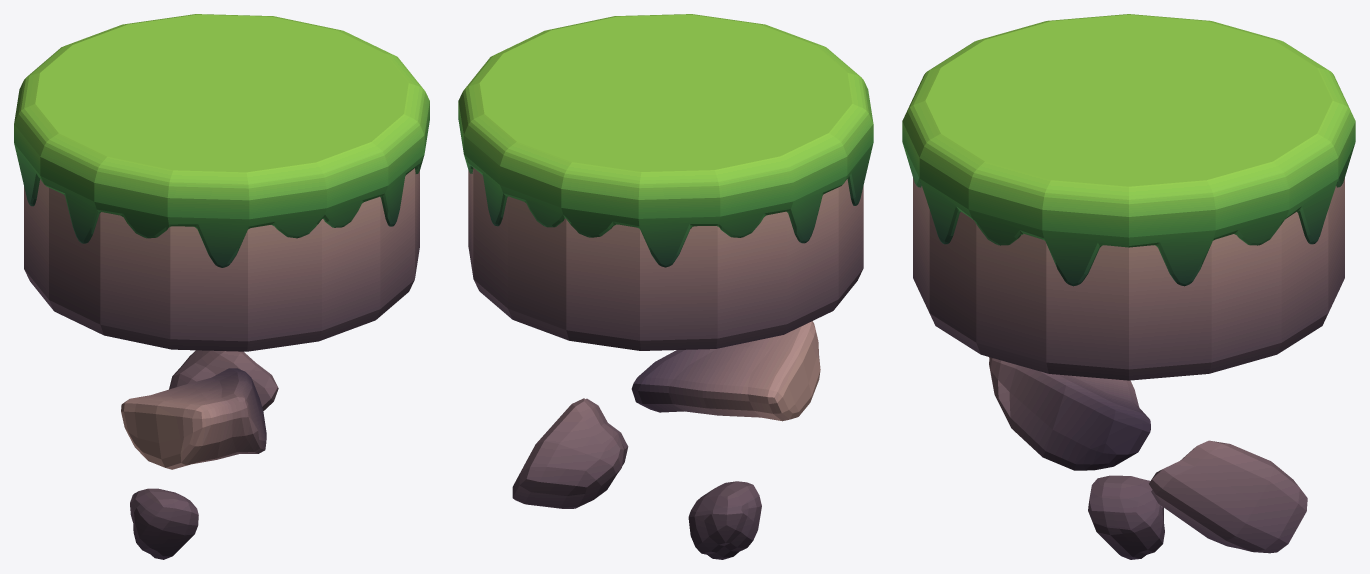
Rendered from round.fbx.
3 renders of one model, left to right at view 1: azimuth 30°, elevation 25°; view 2: azimuth 150°, elevation 25°; view 3: azimuth 270°, elevation 25°, orthographic. The views are drawn at different scales.
Parts seen in each view (by area): view 1: round; view 2: round; view 3: round.
Part boxes in pixels (<box>): round: <box>14,14,429,559</box>; round: <box>458,14,873,559</box>; round: <box>902,14,1355,559</box>.
Bounding box in the file's own units: 4.2 × 5 × 4.2.
